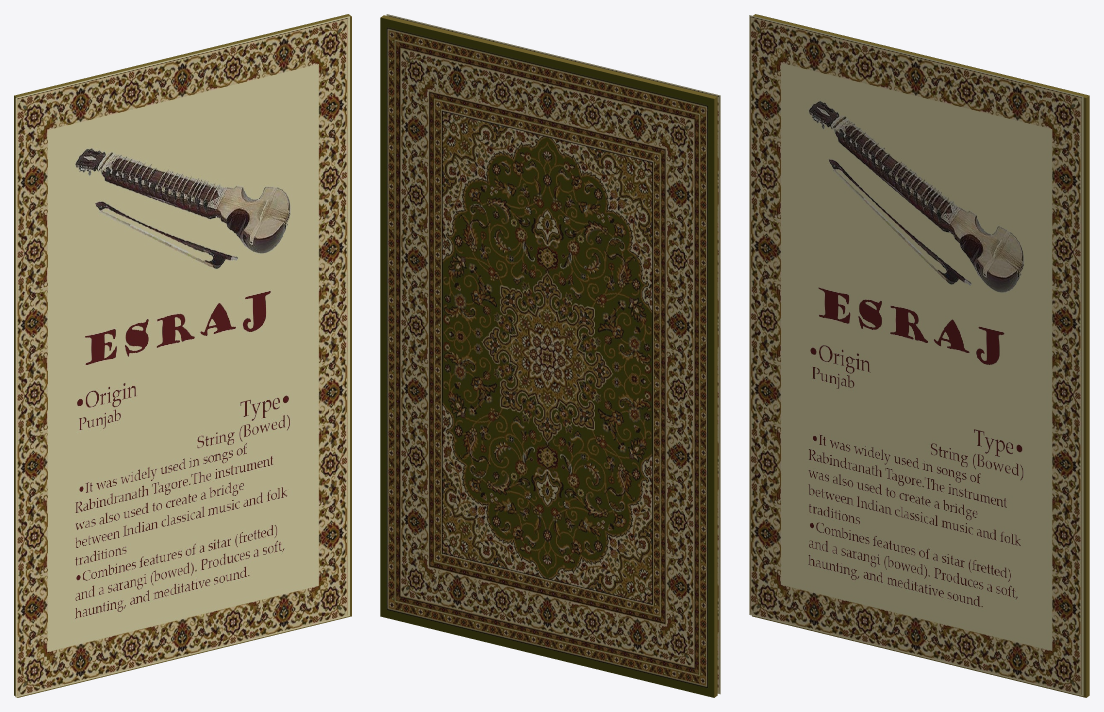
Rendered from esrajcard.glb.
The picture shows the model from 3 angles, left to right: view 1: azimuth 30°, elevation 25°; view 2: azimuth 150°, elevation 25°; view 3: azimuth 330°, elevation 25°; orthographic projection.
Visible parts, largest first — view 1: Plane.002; view 2: Plane.002; view 3: Plane.002.
Boxes of the visible parts, bbox=[...] form: Plane.002: bbox=[14, 14, 351, 697]; Plane.002: bbox=[380, 14, 720, 697]; Plane.002: bbox=[749, 14, 1089, 697].
Bounding box in the file's own units: 0.0705 × 0.1203 × 0.00142.
3 materials, 2 textured.
